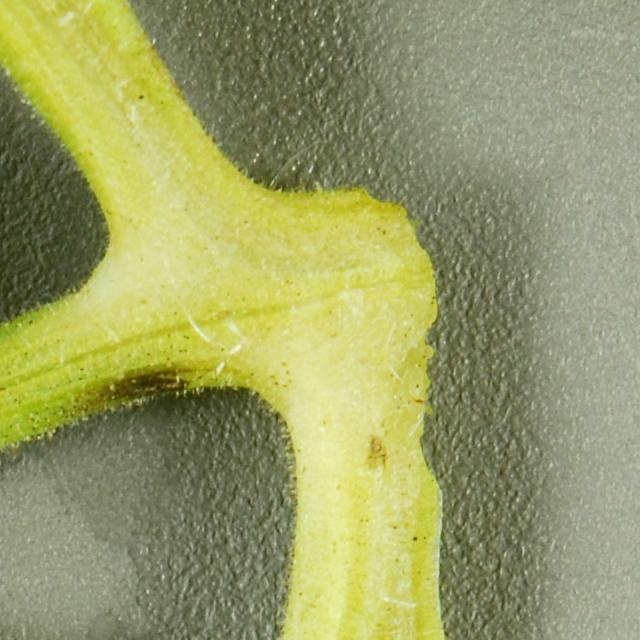Tomato Early blight leaf: (133, 590, 640, 640), (0, 594, 38, 640)
